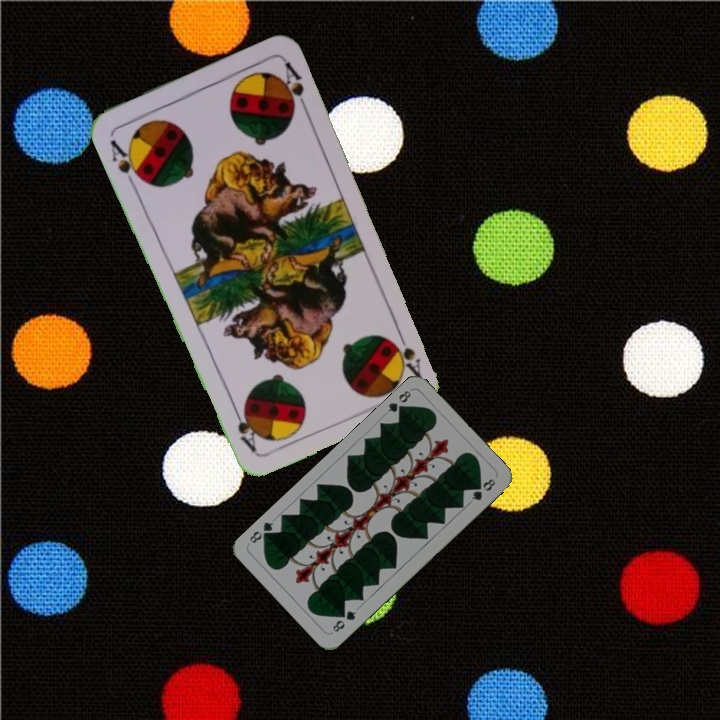G8: (383, 386, 414, 417), (328, 606, 359, 635)
SA: (106, 135, 146, 189), (389, 325, 425, 381)
